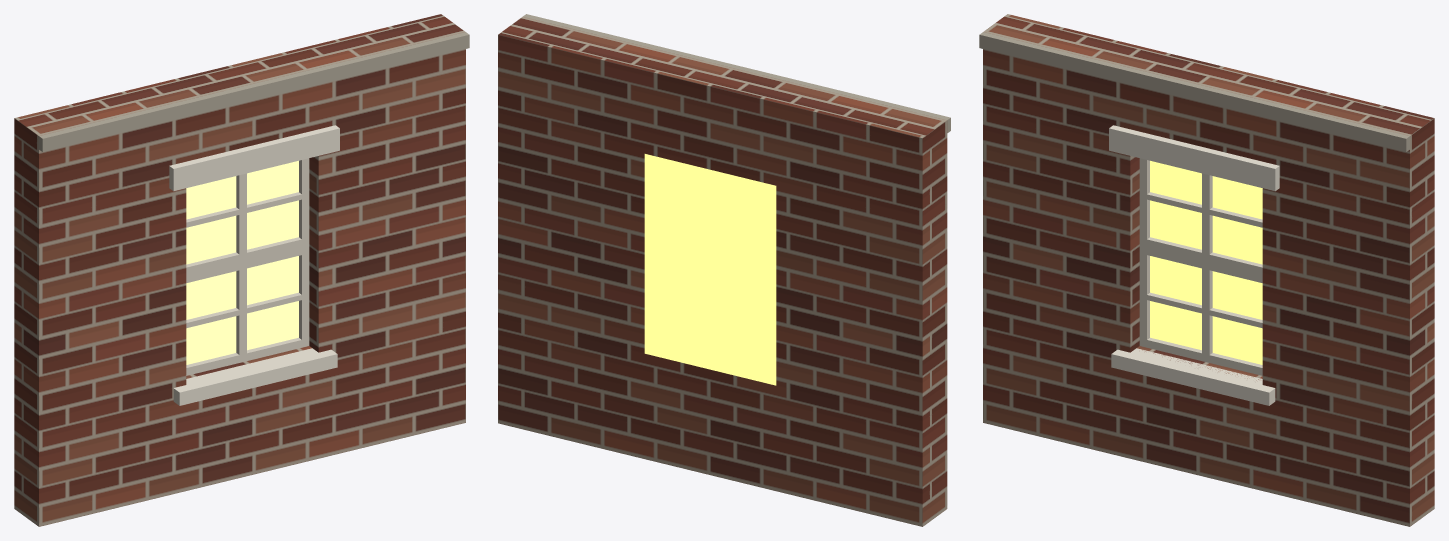
File: ct_win.glb
The picture shows the model from 3 angles, left to right: view 1: azimuth 30°, elevation 25°; view 2: azimuth 150°, elevation 25°; view 3: azimuth 330°, elevation 25°; orthographic projection.
Visible parts, largest first — view 1: city_ct_win; view 2: city_ct_win; view 3: city_ct_win.
Part boxes in pixels (<box>): city_ct_win: <box>14,14,469,526</box>; city_ct_win: <box>498,14,950,526</box>; city_ct_win: <box>979,14,1434,526</box>.
Size of the model in its own units: 4 by 3.5 by 0.5.
Materials: 2 (2 with a texture image).
